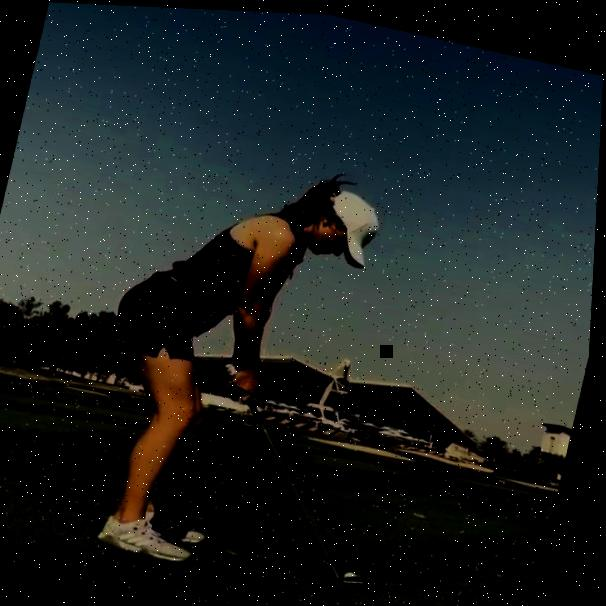ClubHead: (346, 569, 375, 586)
GolfBall: (351, 567, 364, 576)
